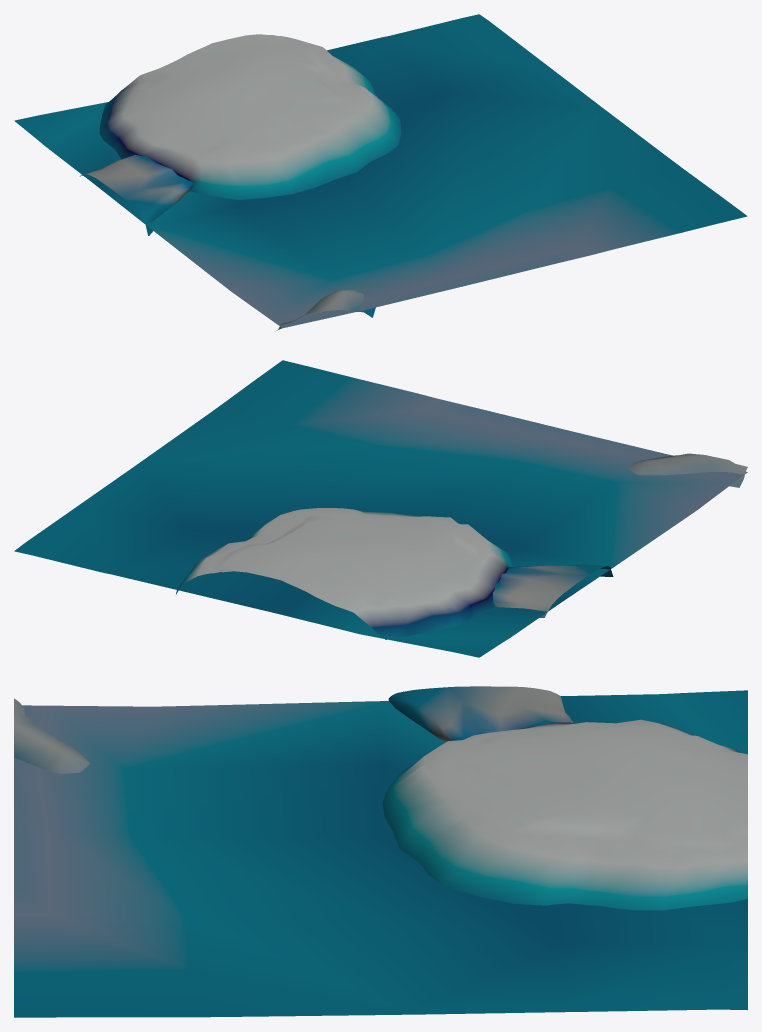
3 views of the same model, one above another, from view 1: azimuth 30°, elevation 25°; view 2: azimuth 150°, elevation 25°; view 3: azimuth 270°, elevation 25° (orthographic). The views are drawn at different scales.
Visible parts, largest first — view 1: G:\FFXIV-MapTools\exports\s1f3\bg\ffxiv\sea_s1\fld\s1f3\bgpl (×13); view 2: G:\FFXIV-MapTools\exports\s1f3\bg\ffxiv\sea_s1\fld\s1f3\bgpl (×12); view 3: G:\FFXIV-MapTools\exports\s1f3\bg\ffxiv\sea_s1\fld\s1f3\bgpl (×13).
Part boxes in pixels (bbox=[...]): G:\FFXIV-MapTools\exports\s1f3\bg\ffxiv\sea_s1\fld\s1f3\bgpl (×13): bbox=[14, 14, 747, 330]; G:\FFXIV-MapTools\exports\s1f3\bg\ffxiv\sea_s1\fld\s1f3\bgpl (×12): bbox=[14, 360, 747, 657]; G:\FFXIV-MapTools\exports\s1f3\bg\ffxiv\sea_s1\fld\s1f3\bgpl (×13): bbox=[14, 686, 747, 1017].
Bounding box in the file's own units: 128 × 16.76 × 128.
